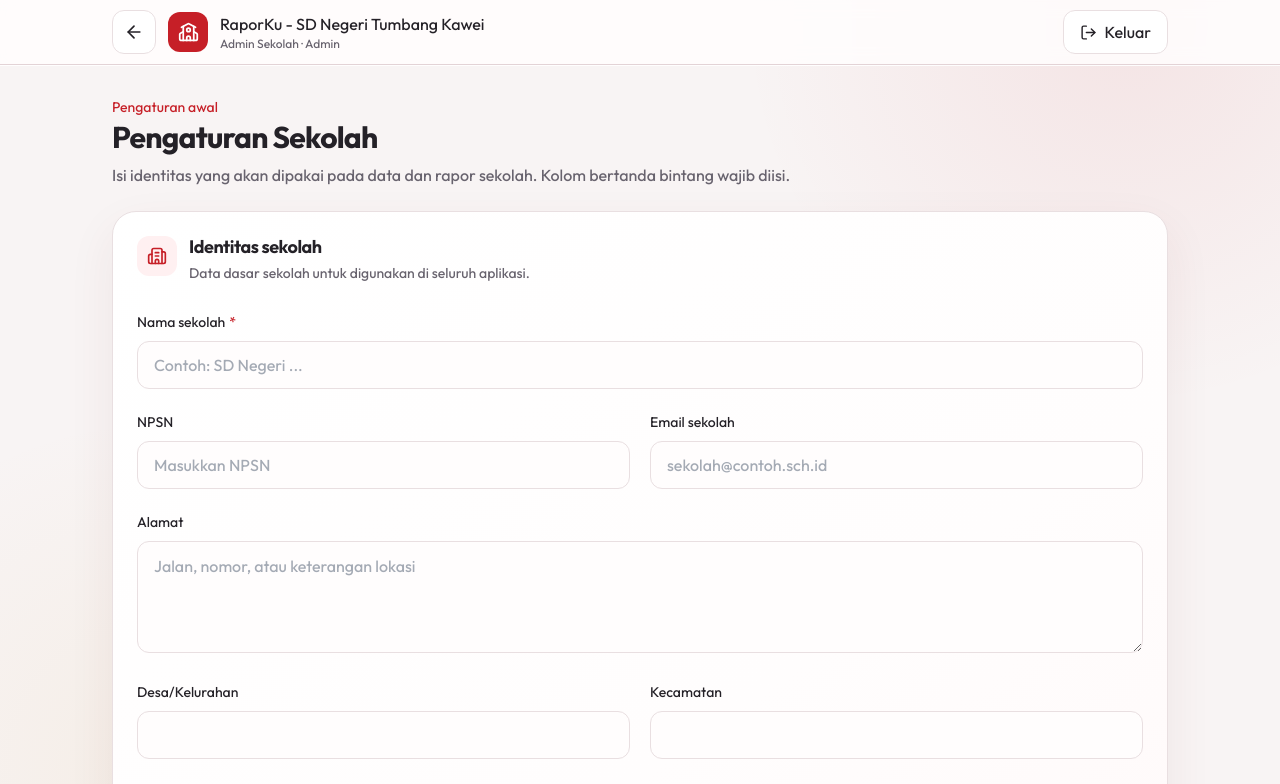
Test: SchoolSettingsPage › menampilkan pesan aman ketika logout gagal
The image size is (1280, 784).
Check: the field labelled "Nama sekolah*" is shown, box [137, 341, 1143, 389]
Step 1. Click the button "Keluar" → (1115, 32), box [1063, 10, 1168, 54]
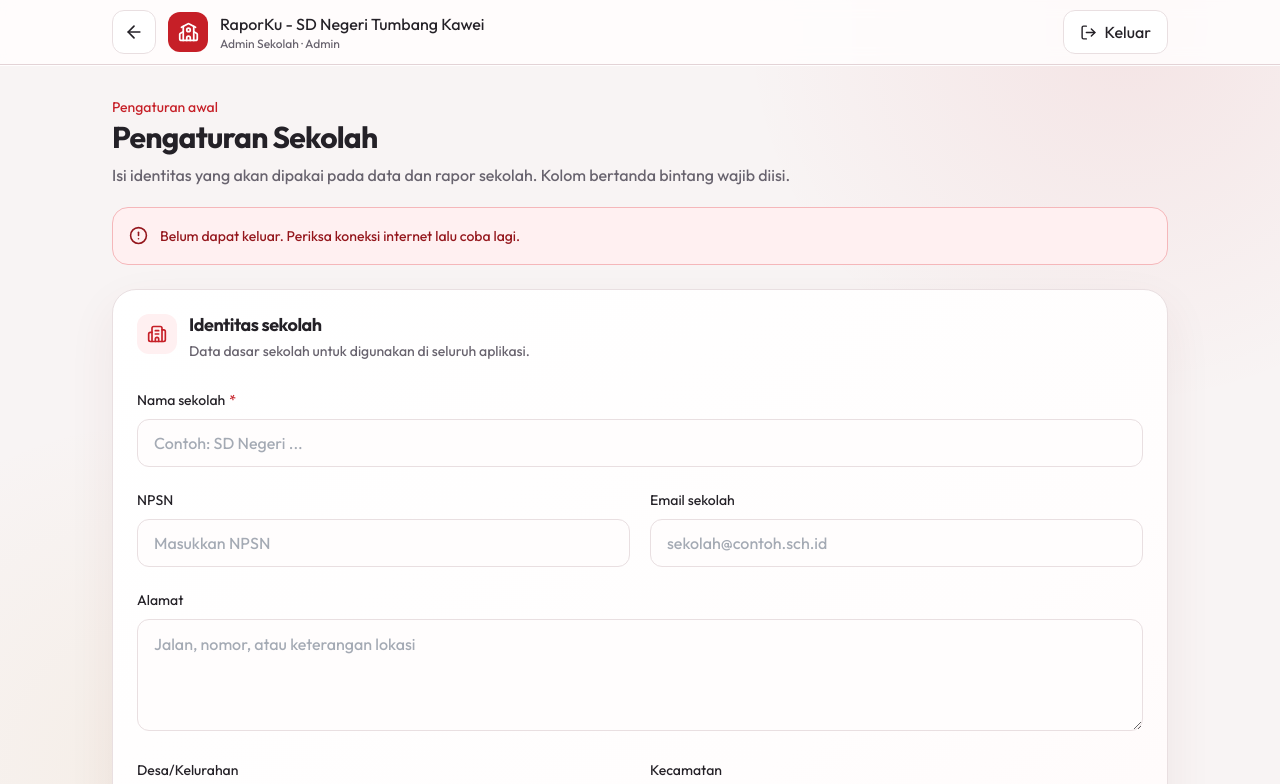
Check: the message reads "Belum dapat keluar. Periksa koneksi internet lalu coba lagi.", box [160, 227, 520, 245]
